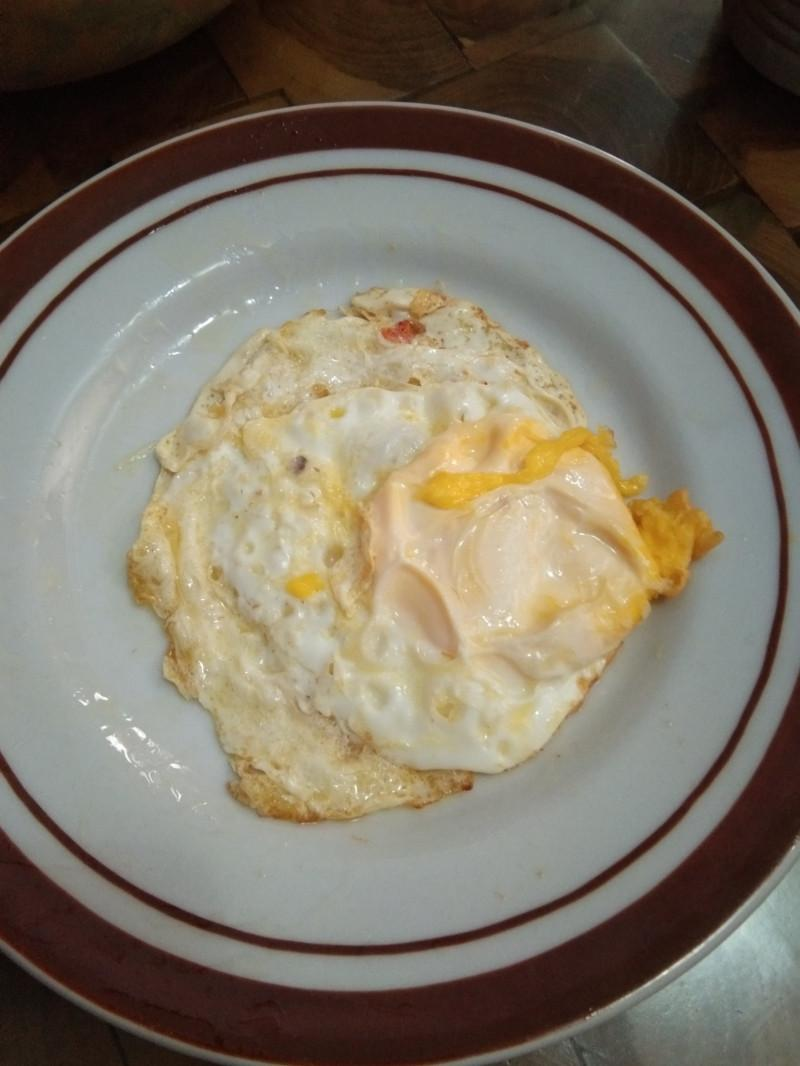telur: (243, 353, 524, 770)
